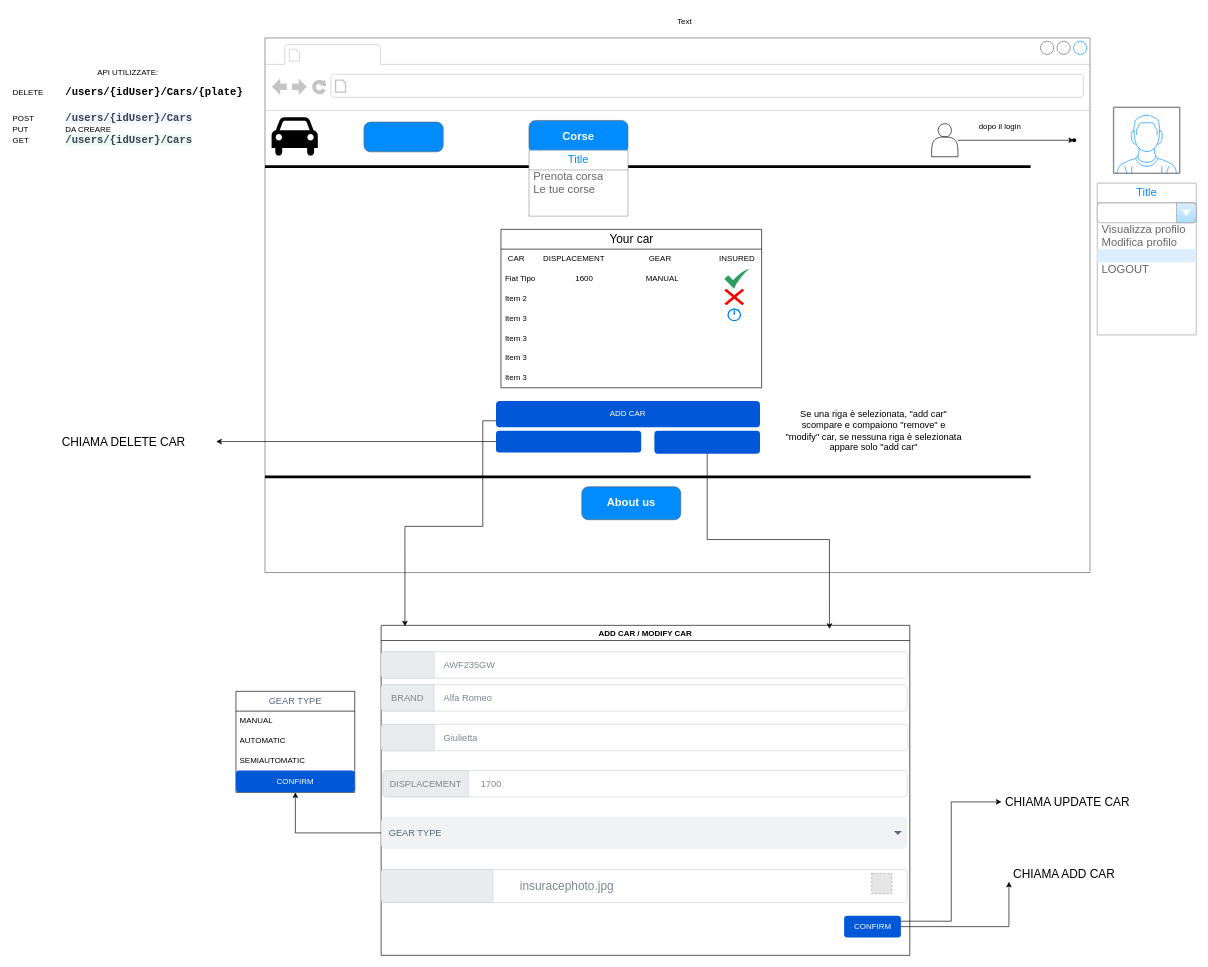
Some shapes in this 1208 by 967 pixel diagram are drawn without their labels. Grey dashed boxes stand in for pictures. Here are the shapes that lost their labels. From the top down, the centre of each, then its label:
At [340,54]: "Page 1".
At [433,86]: "https://www.mypersonaldriver/documents.it".
At [403,136]: "Home".
At [1146,212]: "dropdown".
At [568,441]: "REMOVE".
At [707,441]: "MODIFY CAR".
At [407,664]: "PLATE".
At [407,737]: "MODEL".
At [436,886]: "INSURANCE PHOTO".
